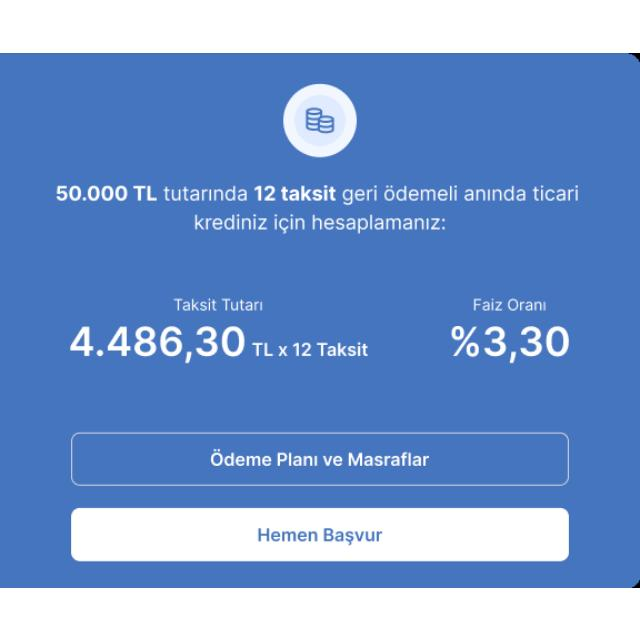QLabel: (69, 324, 247, 358), (194, 212, 448, 232), (343, 183, 581, 204), (451, 324, 569, 360), (208, 449, 428, 467), (55, 180, 159, 204), (254, 525, 388, 543), (250, 339, 372, 358), (254, 182, 338, 202), (164, 183, 252, 201), (461, 296, 553, 312), (171, 296, 265, 310)
VBtn: (68, 430, 572, 488), (69, 506, 573, 562)
VCard: (0, 53, 640, 587)
VIcon: (282, 82, 358, 158)
